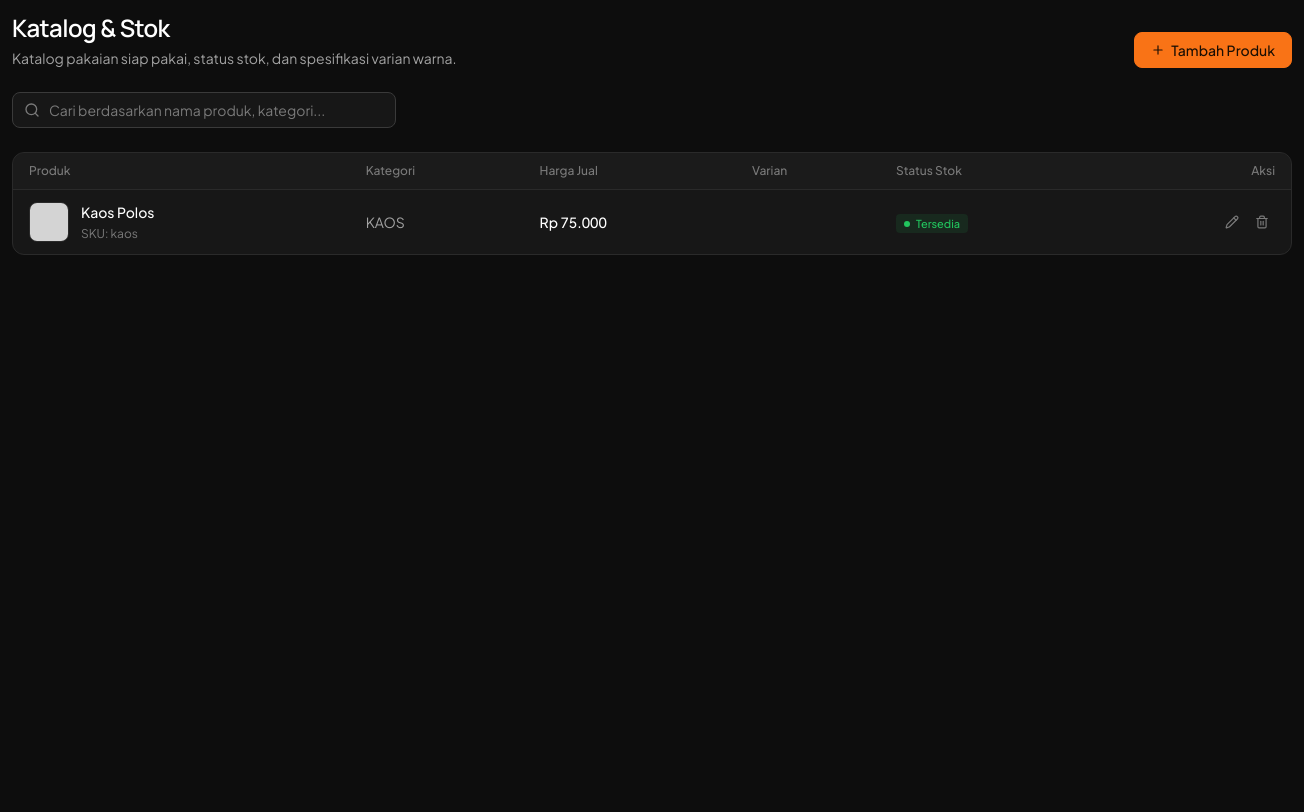
Scenario: ProductsView - behaviour › rolls the stock toggle back when the database refuses it
Expected: the text "Kaos Polos" is shown, 81,202 -> 154,222
Click the button with aria-label "ubah status stok kaos polos". click: (932, 224)
box: 896,214 -> 968,233
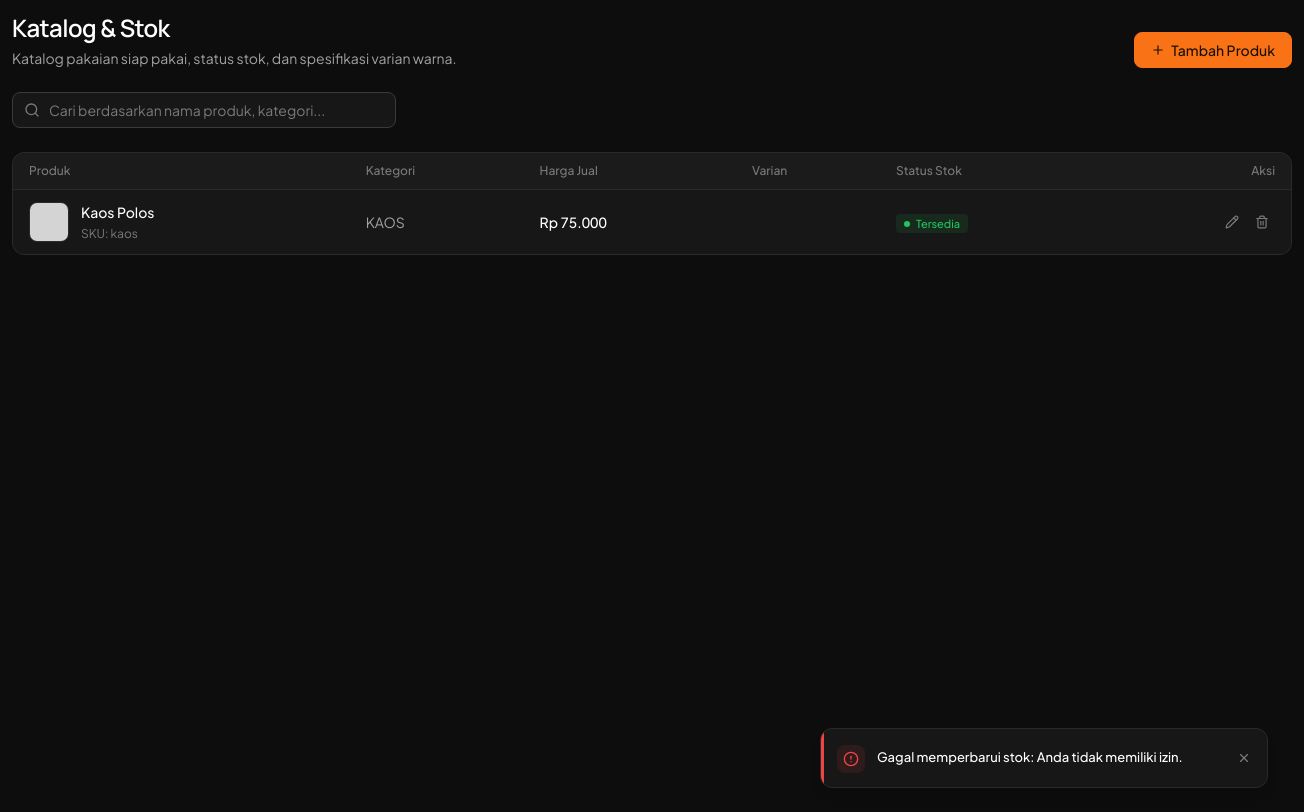
Expected: the text "Tersedia" is shown, 916,216 -> 960,231
Now the text "Gagal memperbarui stok: Anda tidak memiliki izin." is shown, box 877,743 -> 1223,767
